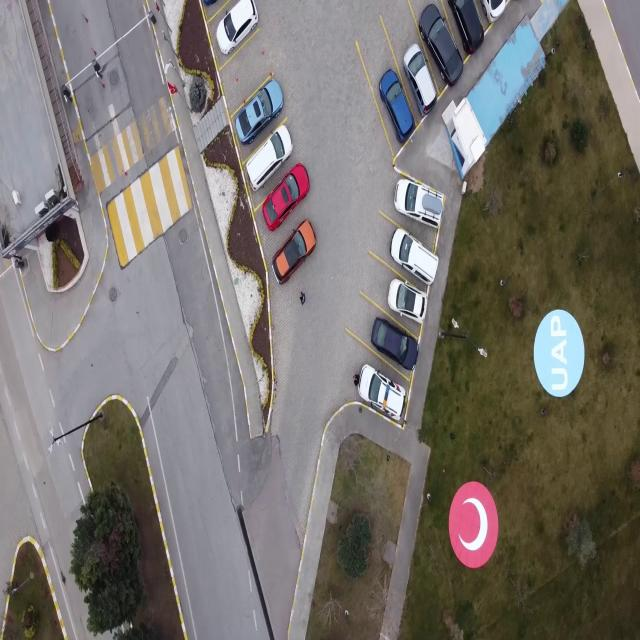people: (354, 373, 359, 386), (300, 292, 305, 304)
